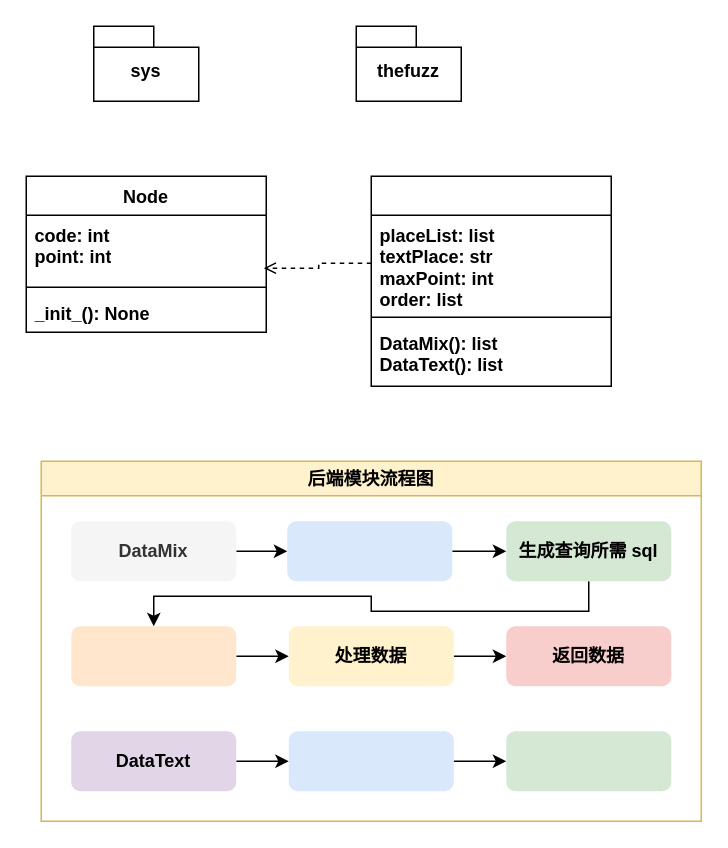
Image size: 728x848. Some labels were removed from this diagram. The box of each missing label's shape, as (x1, y1, x2, y2) in pixels:
DataDeal: (370, 175, 611, 386)
接收前端数据: (286, 520, 452, 580)
接收数据库数据: (70, 626, 236, 686)
获取网页链接: (288, 730, 453, 790)
返回链接: (506, 730, 670, 790)
